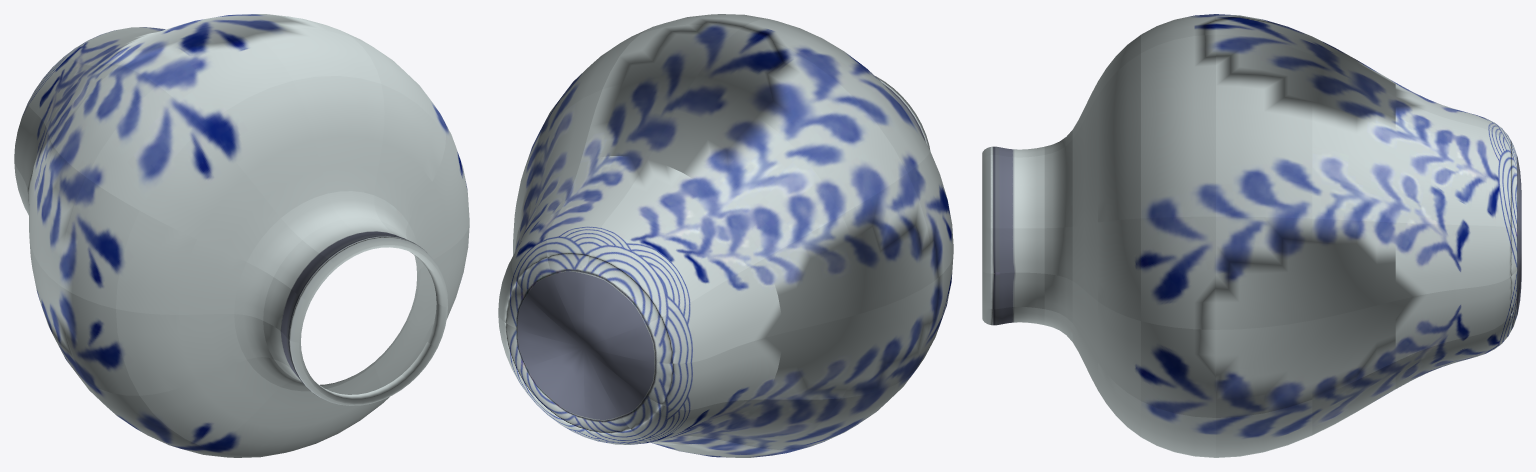
File: eff_mesh_j_yuhu_02.glb
3 views of the same model, side by side, from view 1: azimuth 30°, elevation 25°; view 2: azimuth 150°, elevation 25°; view 3: azimuth 270°, elevation 25° (orthographic).
Parts seen in each view (by area): view 1: eff_mesh_j_yuhu_02; view 2: eff_mesh_j_yuhu_02; view 3: eff_mesh_j_yuhu_02.
Part boxes in pixels (x1=…): eff_mesh_j_yuhu_02: x1=14, y1=14, x2=469, y2=457; eff_mesh_j_yuhu_02: x1=498, y1=14, x2=953, y2=457; eff_mesh_j_yuhu_02: x1=982, y1=14, x2=1521, y2=457.
Size of the model in its own units: 0.00212 by 0.00212 by 0.00258.
Materials: 1 (1 with a texture image).
